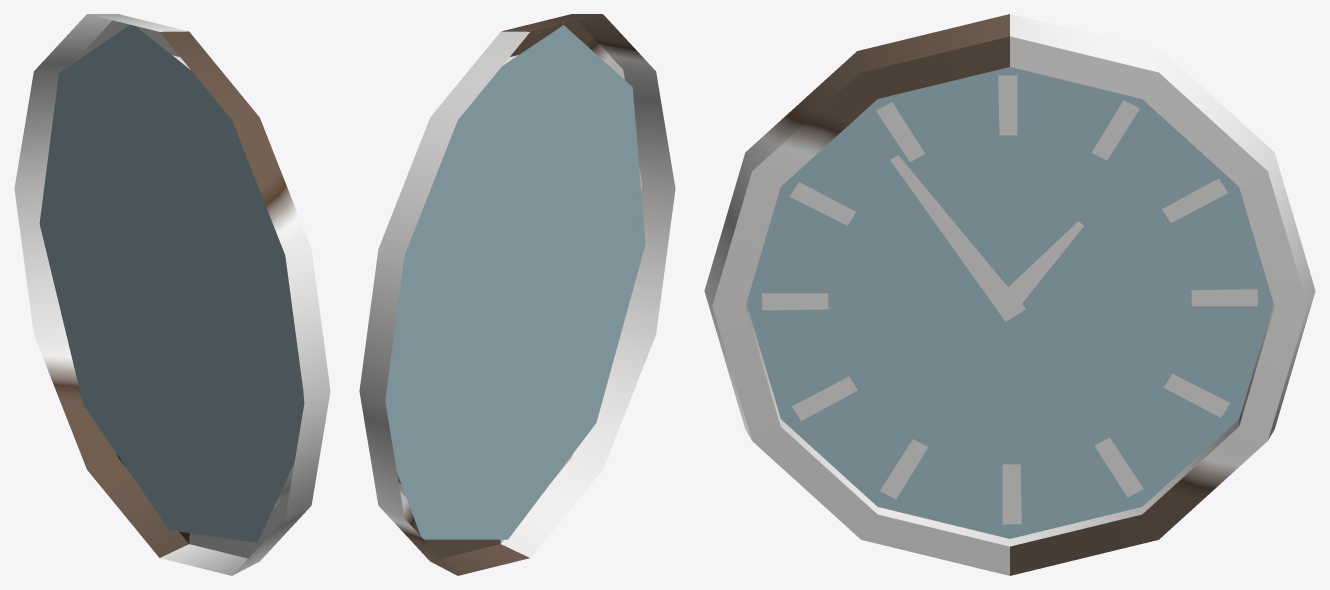
File: Kitchen_2_Clock.fbx
The picture shows the model from 3 angles, left to right: view 1: azimuth 30°, elevation 25°; view 2: azimuth 150°, elevation 25°; view 3: azimuth 270°, elevation 25°; orthographic projection. The views are drawn at different scales.
Parts seen in each view (by area): view 1: Kitchen_2_Clock; view 2: Kitchen_2_Clock; view 3: Kitchen_2_Clock.
Boxes of the visible parts, x1,y1,x2,y2 form: Kitchen_2_Clock: [14, 14, 330, 575]; Kitchen_2_Clock: [359, 14, 675, 575]; Kitchen_2_Clock: [704, 14, 1315, 575].
Size of the model in its own units: 3.56 by 58.19 by 58.19.
